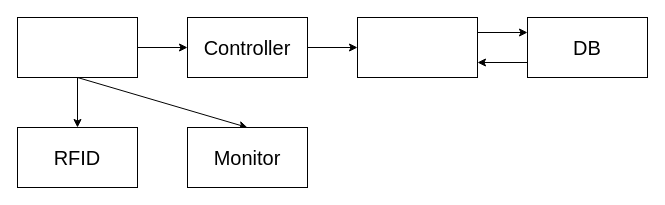
Image size: 665x205. Some labels were removed from this diagram. Here are the shapes that lost their labels. From the top down, the box of each, then its label:
(16, 16, 138, 78): Listener
(356, 16, 478, 78): Service
